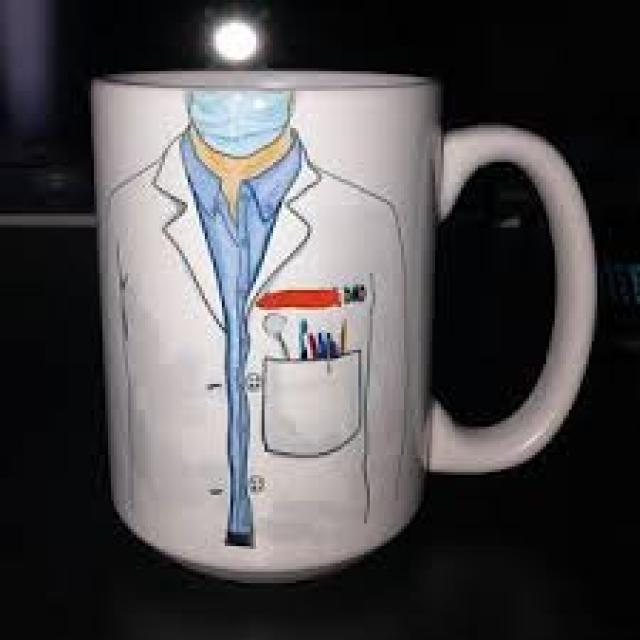taza: (64, 54, 608, 575)
